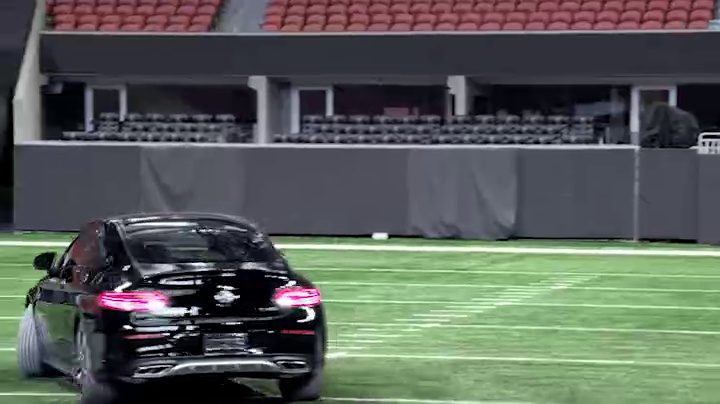amg: (14, 215, 331, 404)
